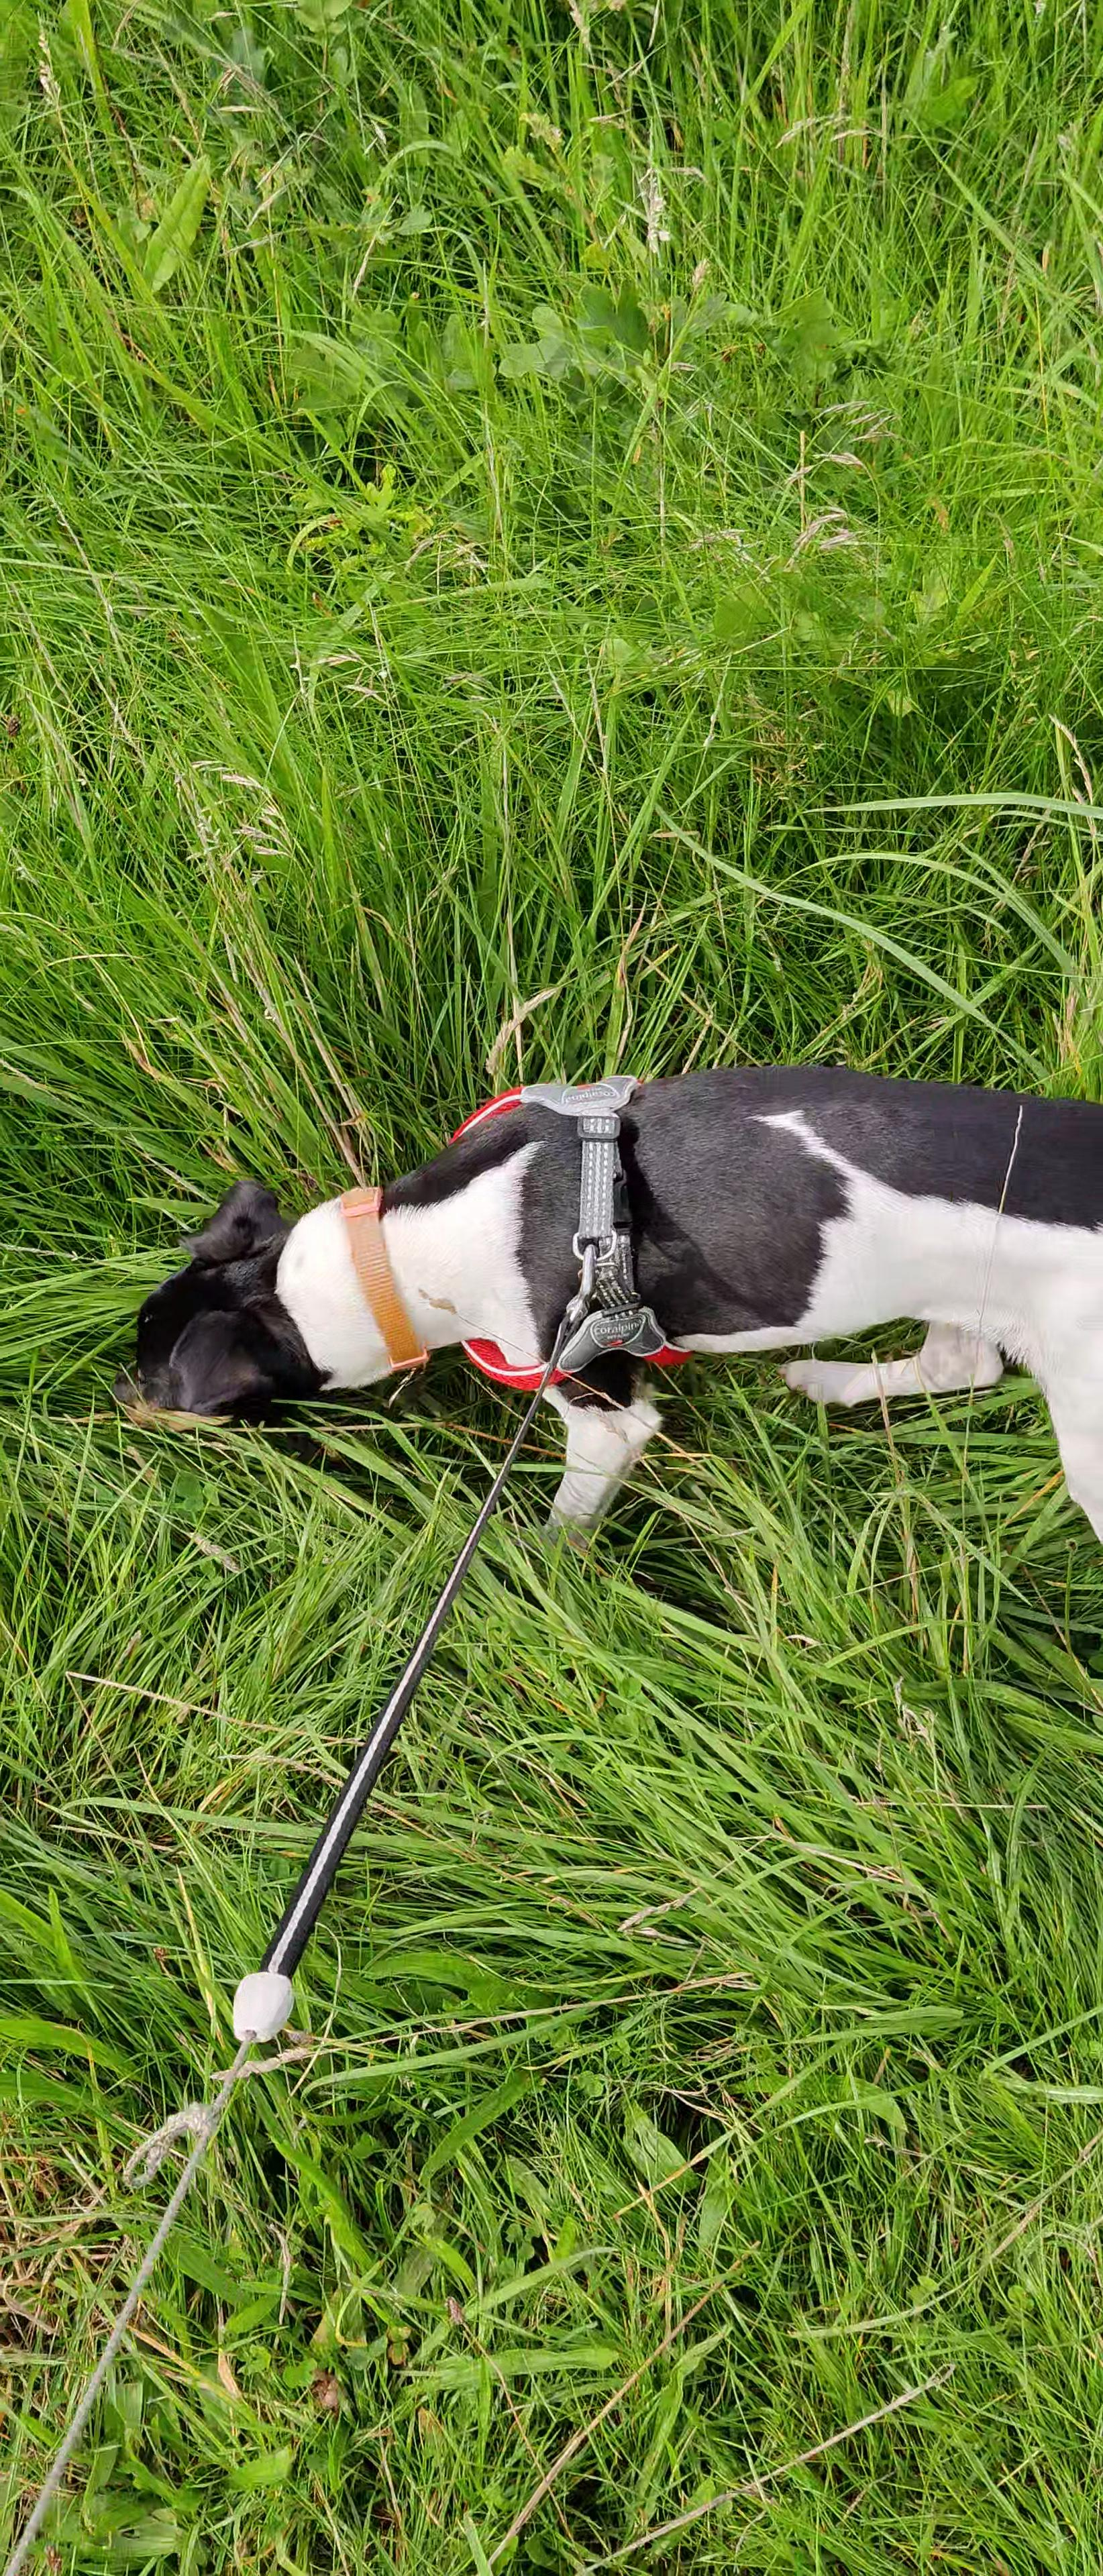Dog: (99, 1042, 1103, 1605)
